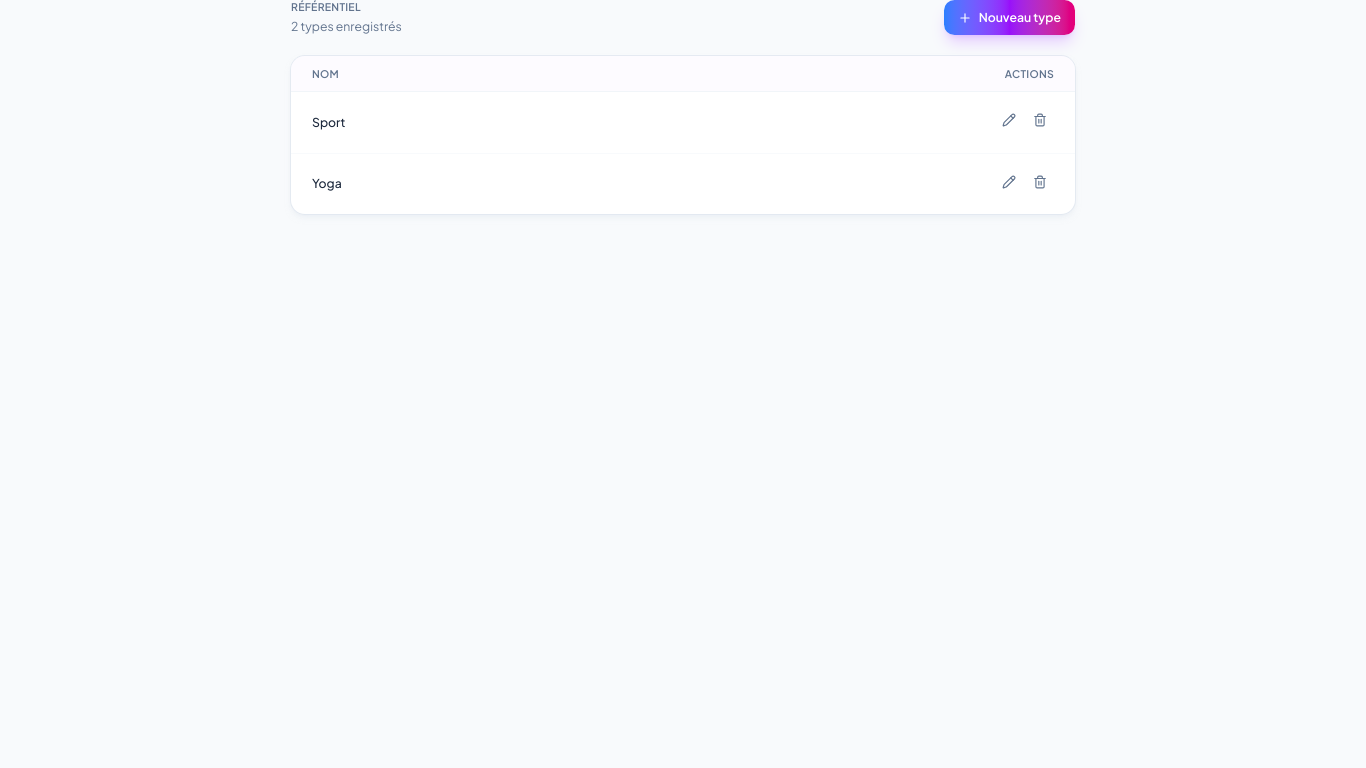
Test: AdminActivityTypesPage › modifie un type d'activité existant
The image size is (1366, 768).
Click the button named "modifier" in the row of "Sport": (1008, 120) 994,106 -> 1022,134
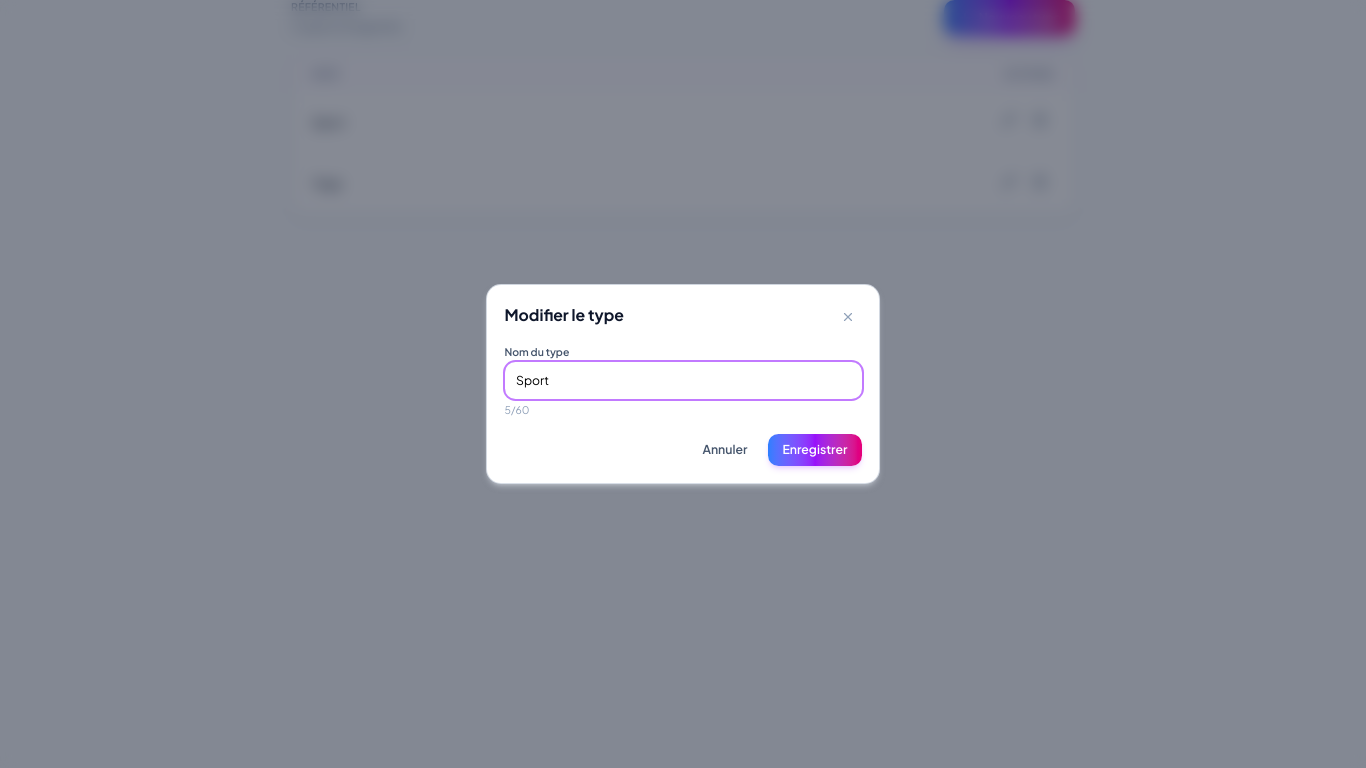
expect the dialog is shown: met
Replace the text in the field labelled "Nom du type" with "Yoga modifié": (683, 380) 504,362 -> 862,399
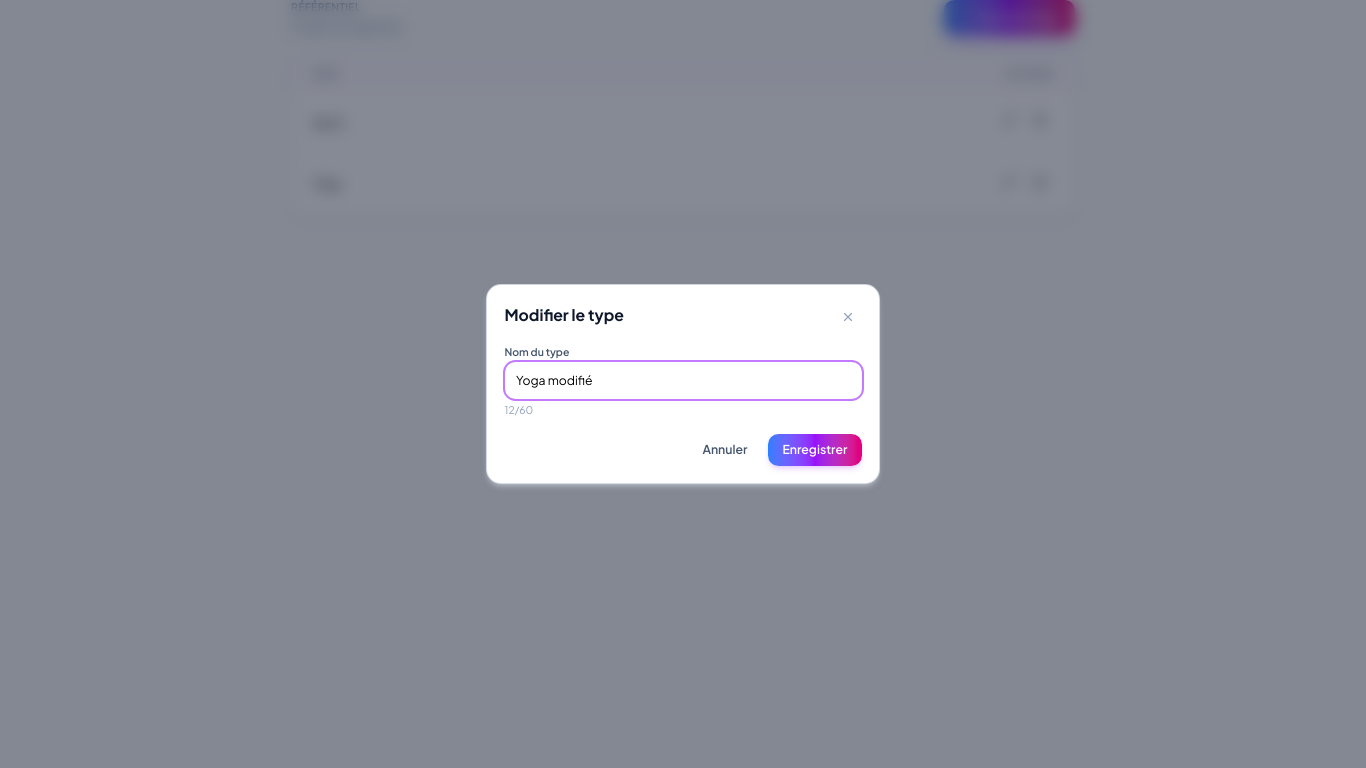
Click the button "Enregistrer": (815, 450) 768,434 -> 862,466
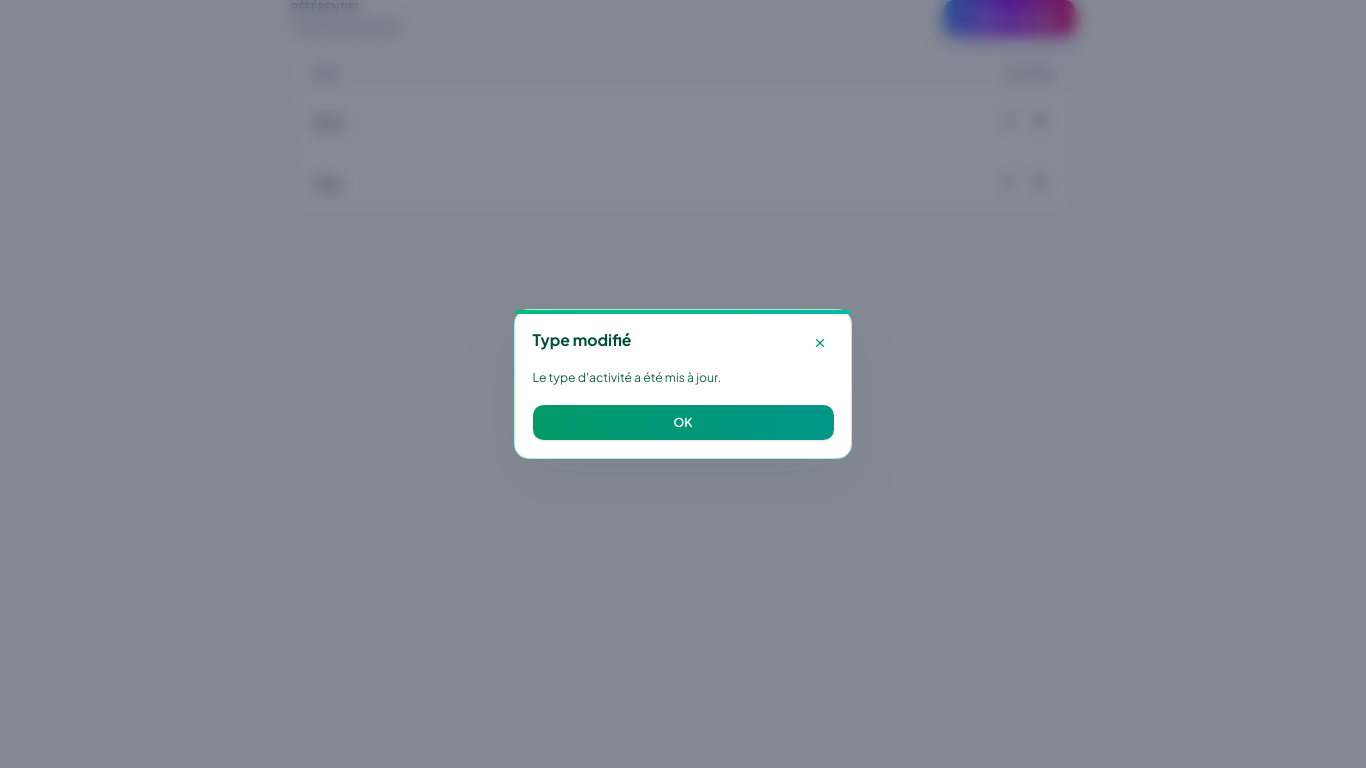
expect the heading "Type modifié" is shown: met, box 532,329 -> 638,351
